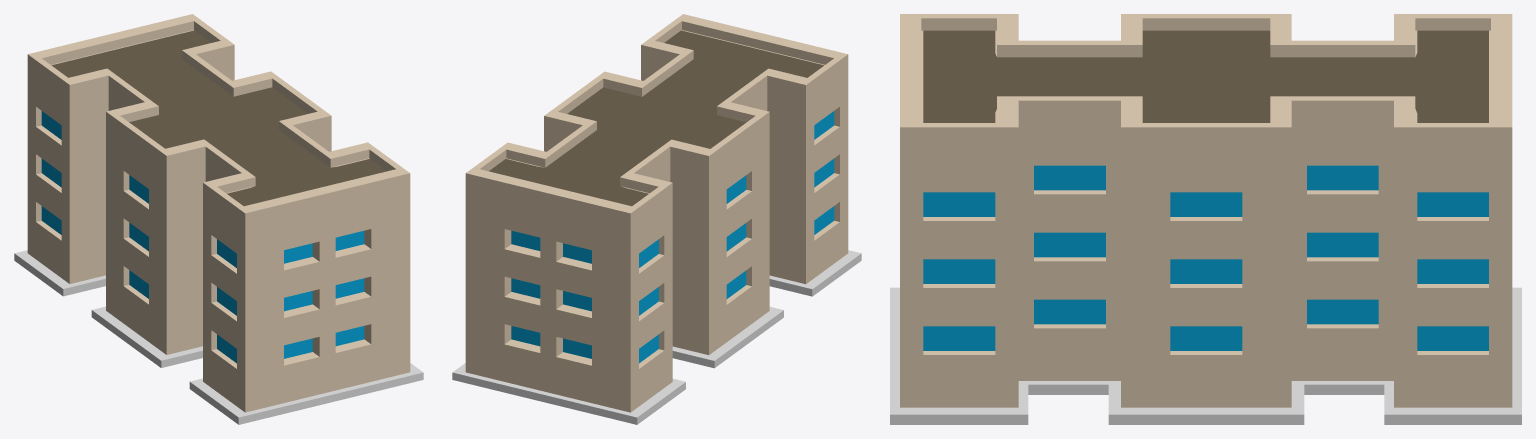
3 renders of one model, left to right at view 1: azimuth 30°, elevation 25°; view 2: azimuth 150°, elevation 25°; view 3: azimuth 270°, elevation 25°, orthographic. The views are drawn at different scales.
Parts seen in each view (by area): view 1: Plane.002; view 2: Plane.002; view 3: Plane.002.
Boxes of the visible parts, x1,y1,x2,y2 form: Plane.002: [14, 14, 423, 424]; Plane.002: [452, 14, 861, 424]; Plane.002: [890, 14, 1521, 424].
Bounding box in the file's own units: 327 × 349 × 688.
